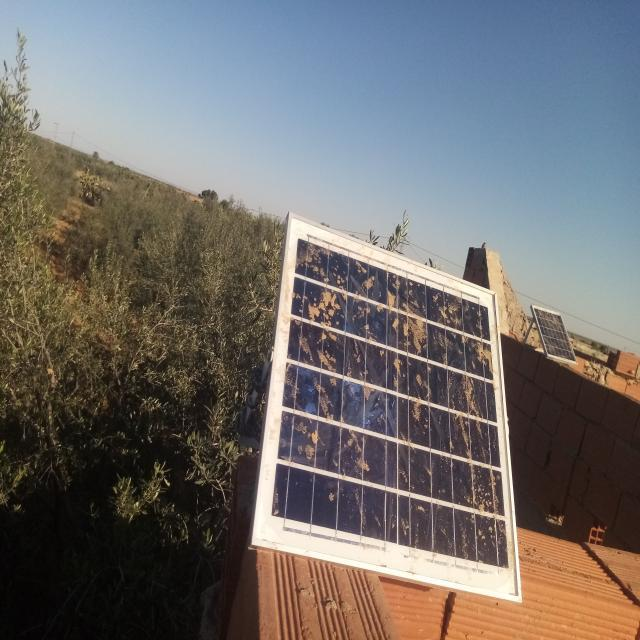faulty: (252, 215, 522, 599), (532, 306, 578, 364)
